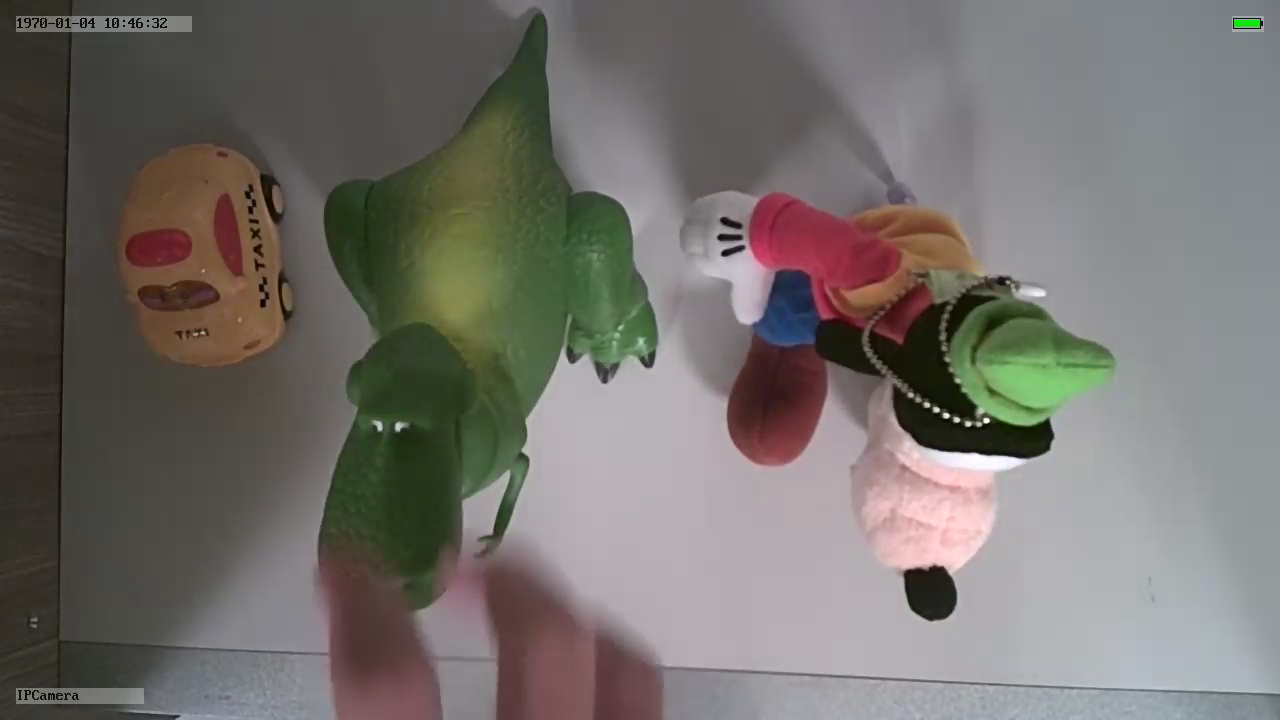goofy: (676, 189, 1116, 630)
